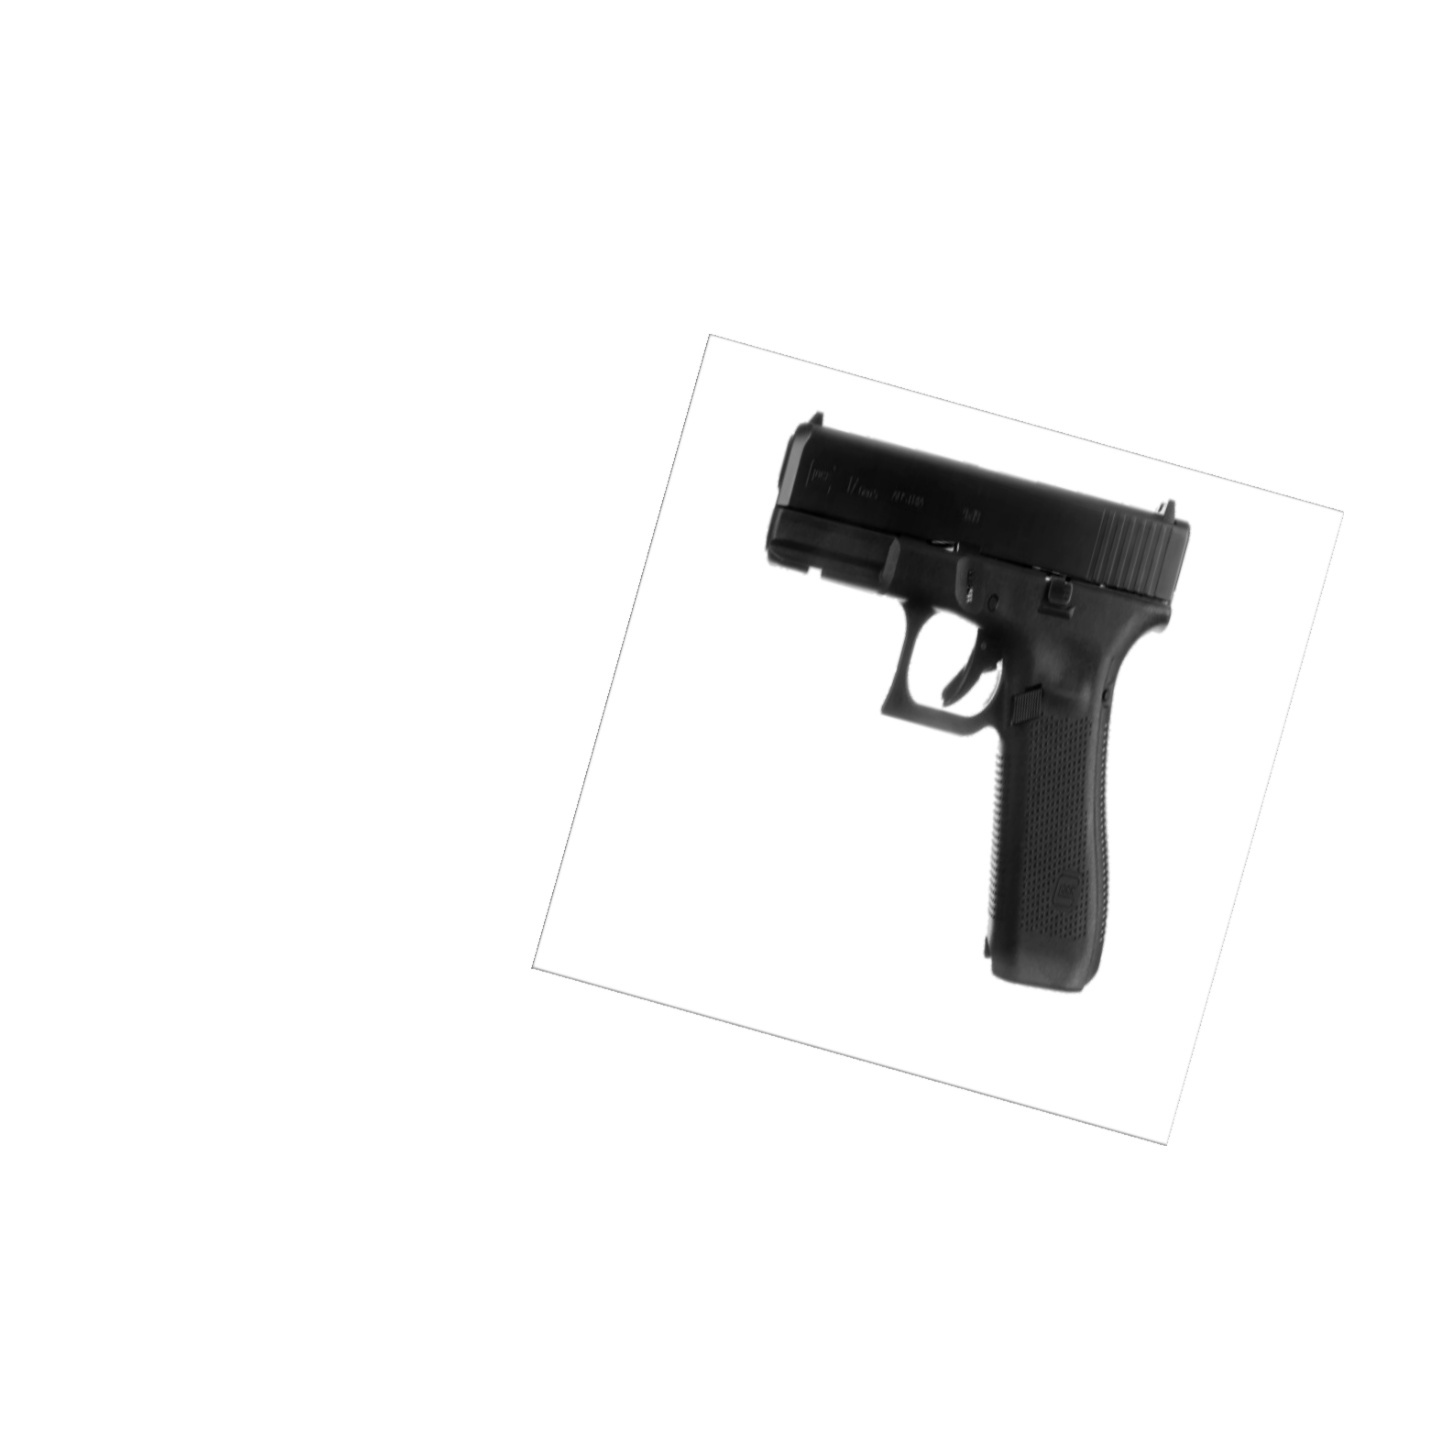gun: (766, 412, 1190, 996)
